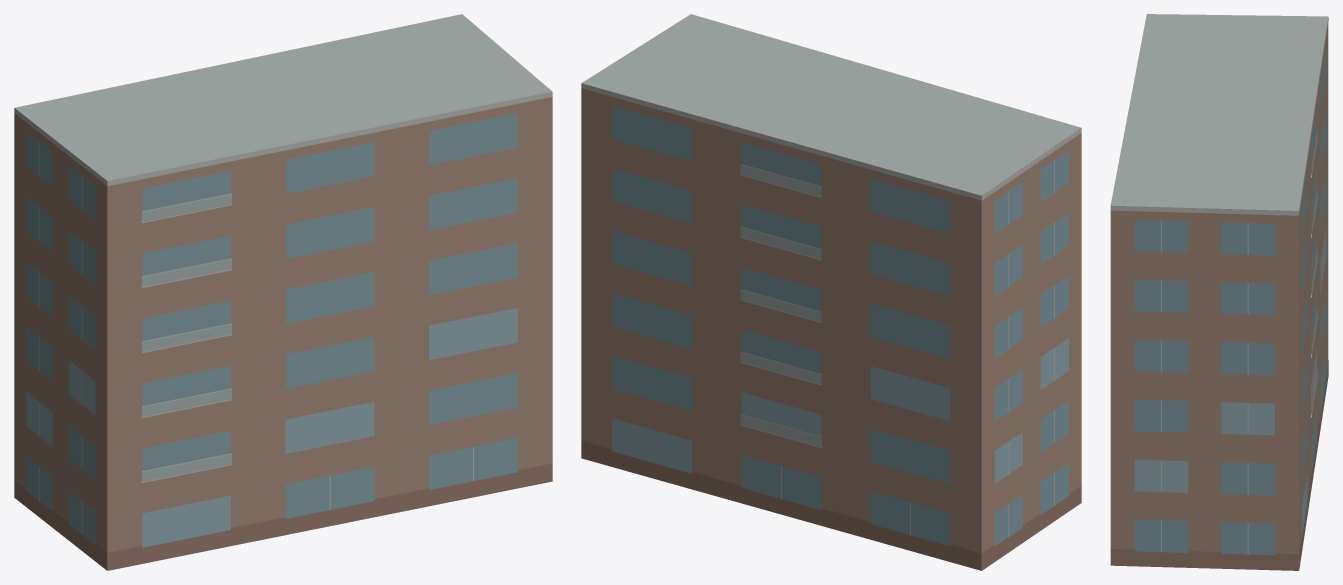
The model's file is survey-upis-33047249.glb.
3 views of the same model, side by side, from view 1: azimuth 30°, elevation 25°; view 2: azimuth 150°, elevation 25°; view 3: azimuth 270°, elevation 25° (orthographic). The views are drawn at different scales.
Parts seen in each view (by area): view 1: survey-upis-33047249.tmp; view 2: survey-upis-33047249.tmp; view 3: survey-upis-33047249.tmp.
Boxes of the visible parts, x1,y1,x2,y2 form: survey-upis-33047249.tmp: [14, 14, 552, 570]; survey-upis-33047249.tmp: [581, 14, 1081, 570]; survey-upis-33047249.tmp: [1110, 14, 1328, 570].
Bounding box in the file's own units: 21.49 × 18.3 × 10.05.
